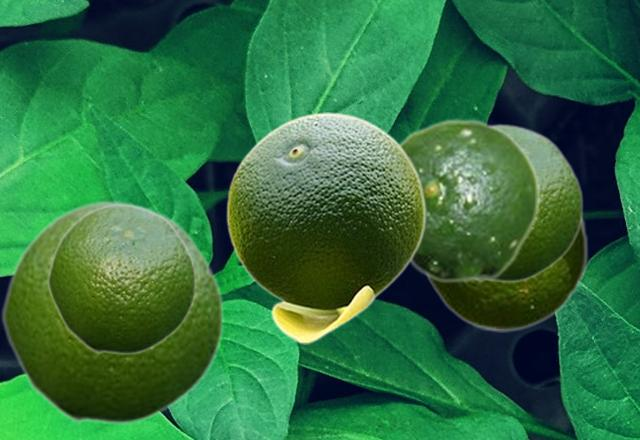calamansi: (0, 198, 224, 424), (226, 112, 425, 343), (398, 118, 540, 283), (46, 202, 196, 354), (422, 211, 588, 331), (476, 122, 583, 282)
